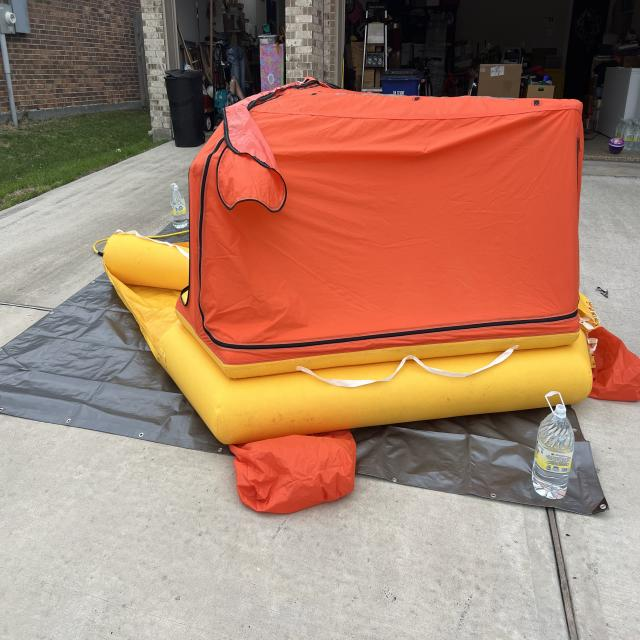Multi-person_life_raft: (100, 73, 640, 514)
